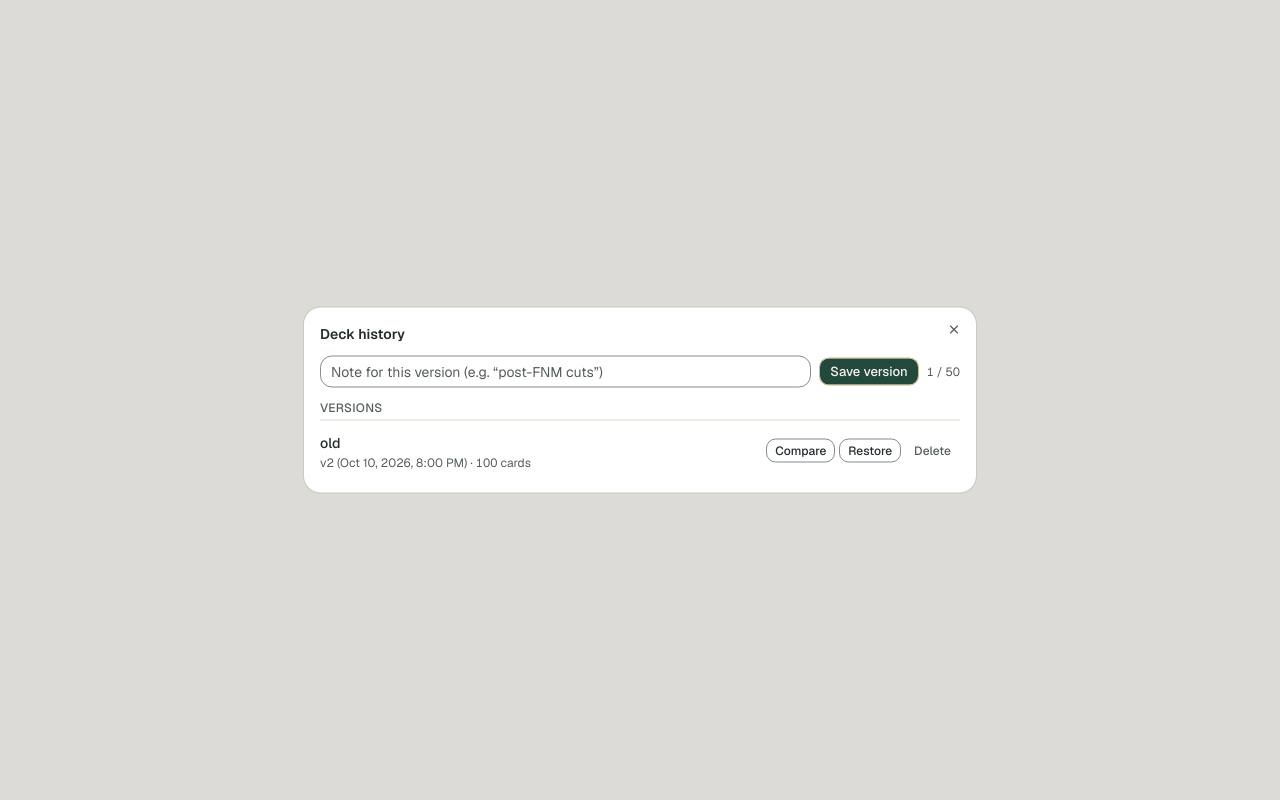
Test: HistoryDialog — Compare, Restore, Delete › a version a logged game uses: the route's 409 is said, and it stays
Check: the dialog "Deck history" shows "old", box [320,434,340,452]
Click the button with aria-label "Delete version 2": (933, 450) [905,438,960,462]
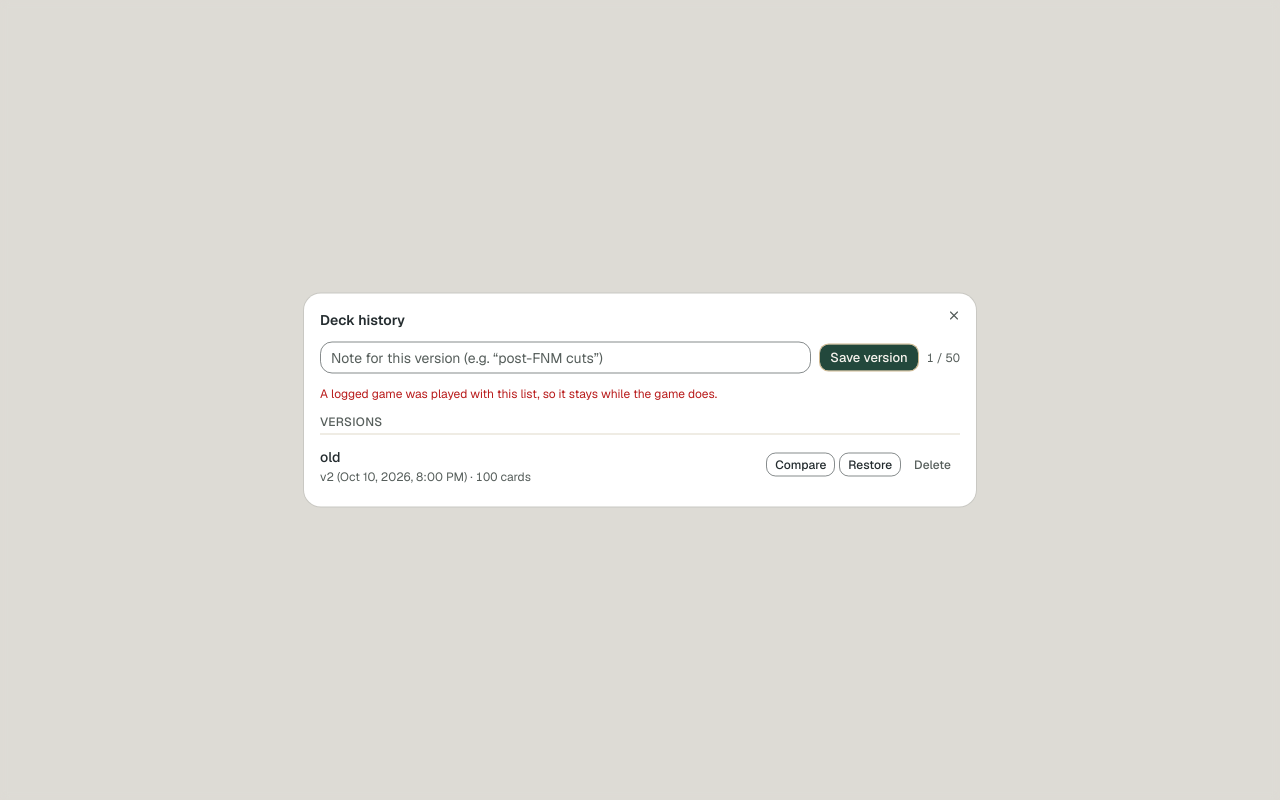
Check: the number of list items is 1, box [320,438,960,490]
Check: the dialog "Deck history" shows "A logged game was played with this list, so it stays while the game does.", box [320,386,717,402]
